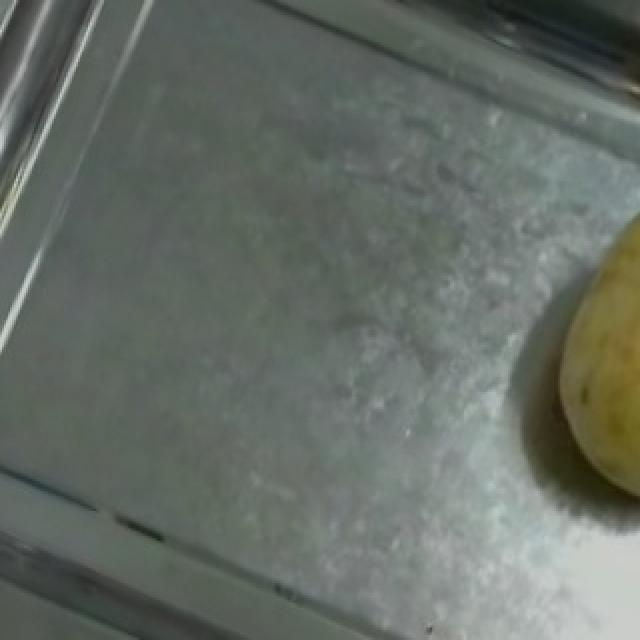Fruit: (510, 184, 640, 536)
